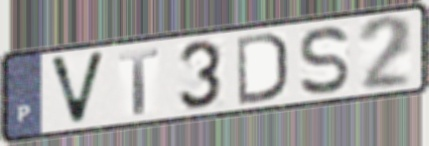2: (356, 12, 416, 95)
3: (174, 36, 228, 113)
D: (234, 30, 290, 107)
S: (297, 23, 352, 97)
T: (117, 46, 162, 117)
V: (46, 49, 109, 128)
